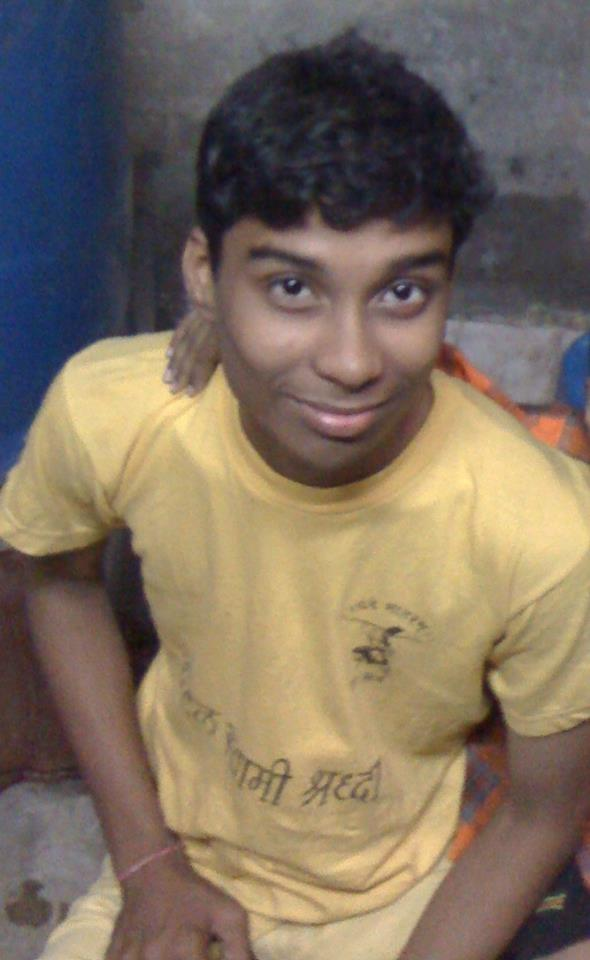No Mask: (179, 7, 490, 475)
